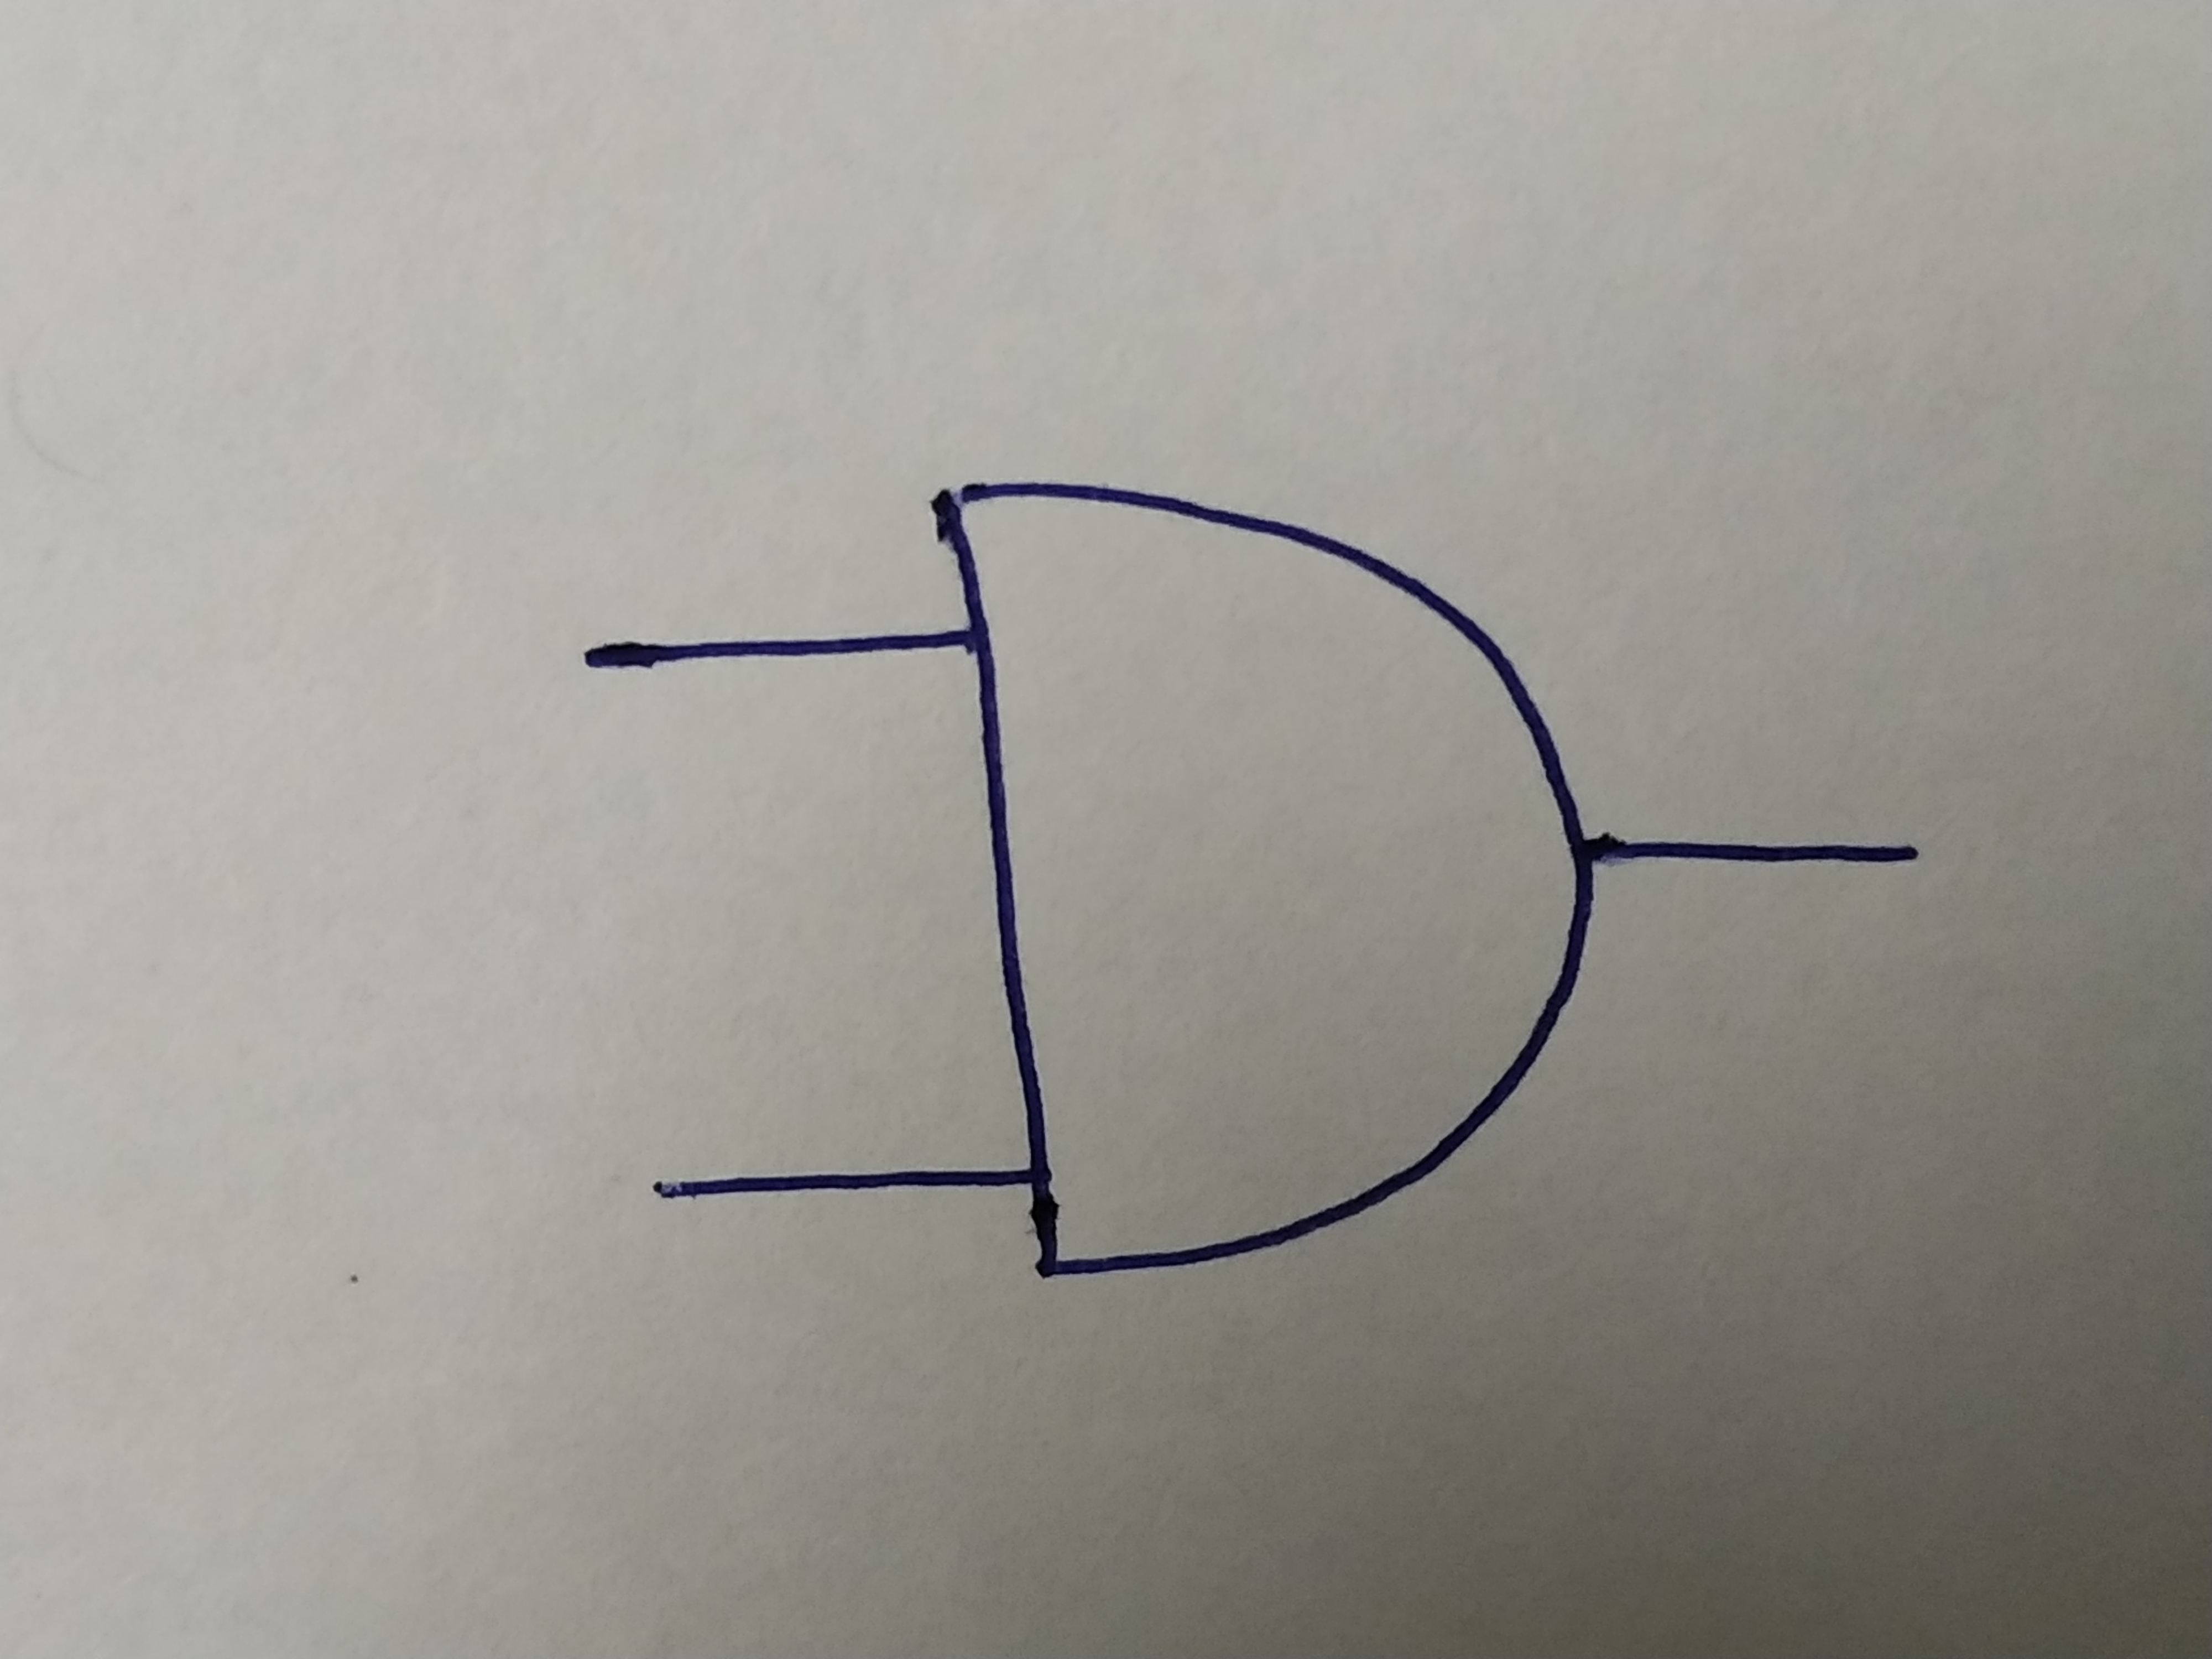and: (930, 477, 1597, 1284)
